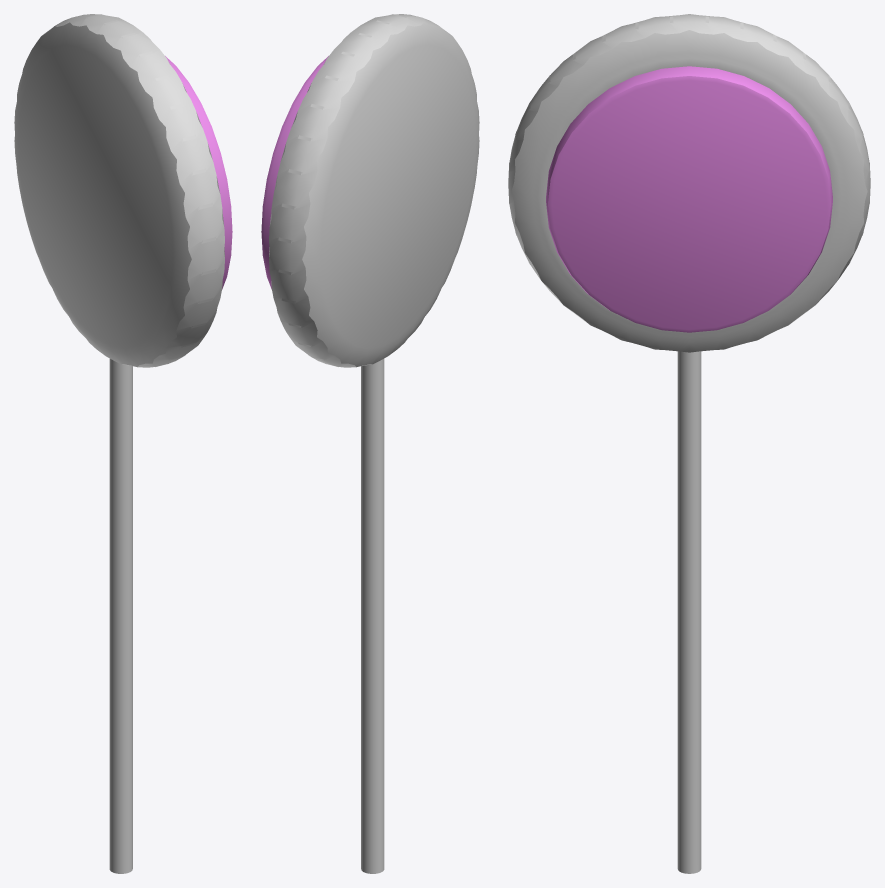
The model's file is Sayac.fbx.
3 views of the same model, side by side, from view 1: azimuth 30°, elevation 25°; view 2: azimuth 150°, elevation 25°; view 3: azimuth 270°, elevation 25° (orthographic).
Visible parts, largest first — view 1: Cylinder; view 2: Cylinder; view 3: Cylinder.
Boxes of the visible parts, x1,y1,x2,y2 form: Cylinder: (14, 14, 232, 873); Cylinder: (261, 14, 479, 873); Cylinder: (508, 14, 870, 873).
Bounding box in the file's own units: 51.45 × 589 × 228.
